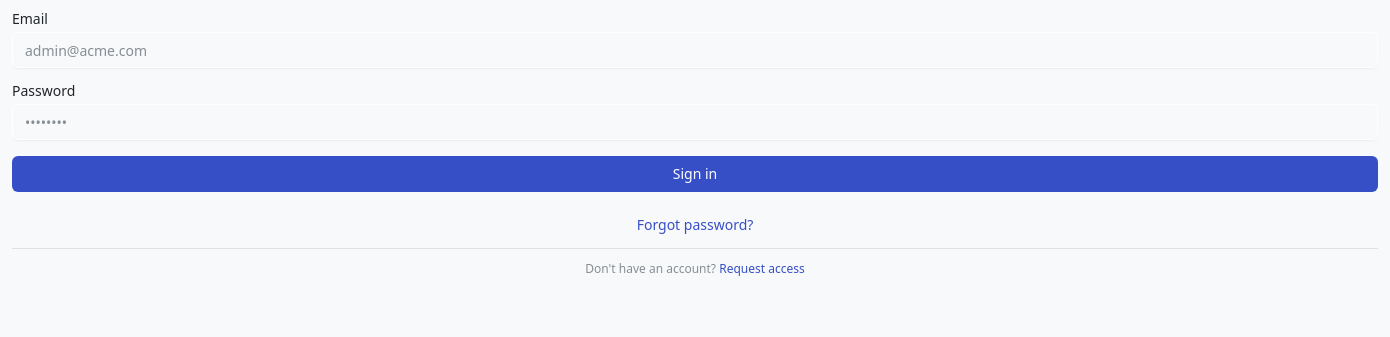
Test: LoginForm › shows validation error for empty email on submit
The width and height of the screenshot is (1390, 337).
Click the button "Sign in": (695, 174) [12,156,1378,192]
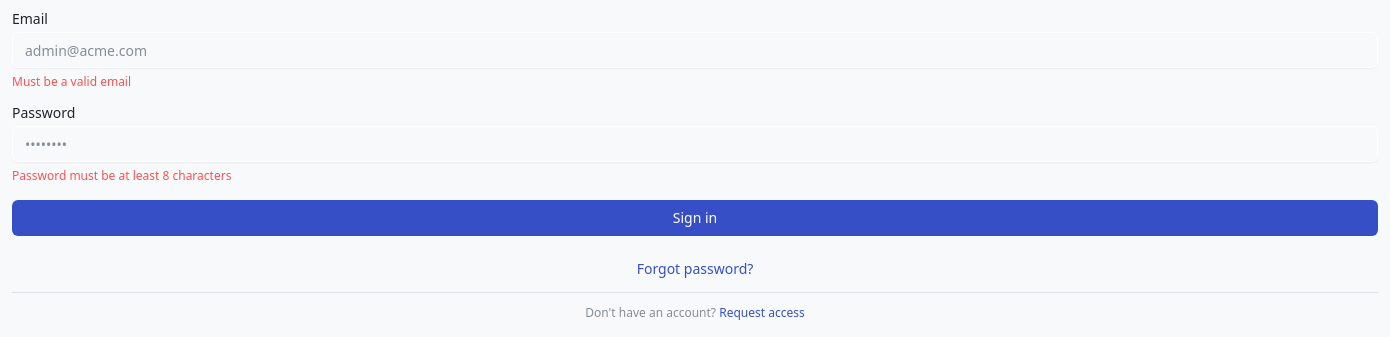
Now the text "Must be a valid email" is shown, box [12,73,131,90]
